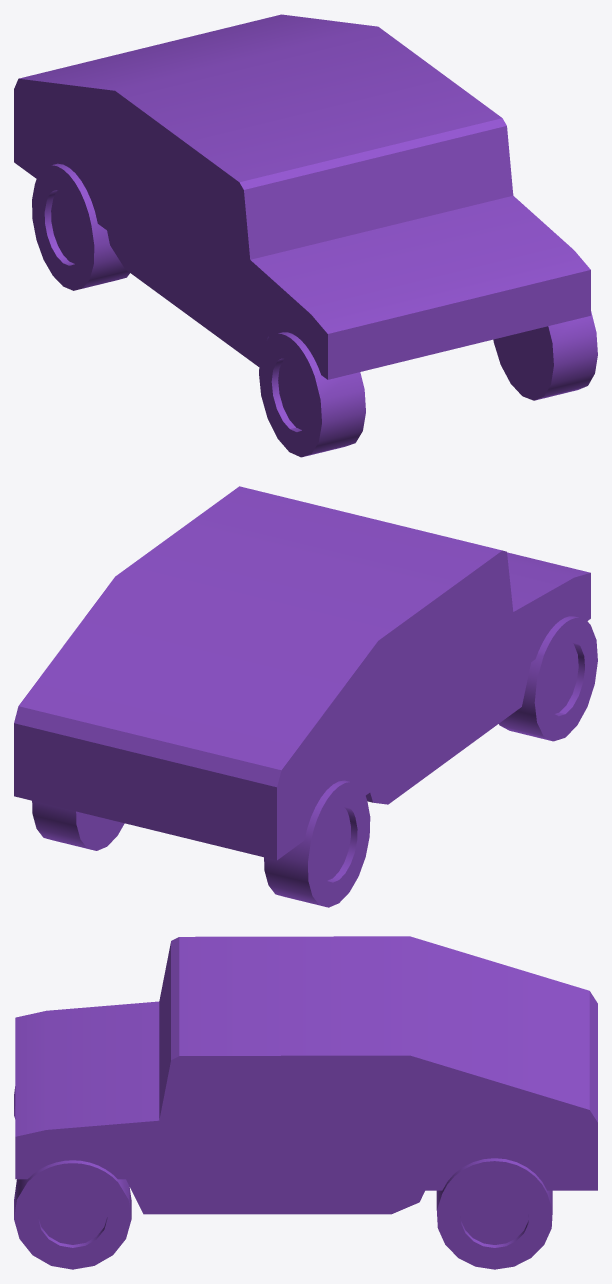
File: Boardgame_Piece_Military_Modern_Humvee_Purple_01.fbx
The picture shows the model from 3 angles, top to bottom: view 1: azimuth 30°, elevation 25°; view 2: azimuth 150°, elevation 25°; view 3: azimuth 270°, elevation 25°; orthographic projection. The views are drawn at different scales.
Parts seen in each view (by area): view 1: Boardgame_Piece_Military_Modern_Humvee_Purple_01; view 2: Boardgame_Piece_Military_Modern_Humvee_Purple_01; view 3: Boardgame_Piece_Military_Modern_Humvee_Purple_01.
Part boxes in pixels (<box>): Boardgame_Piece_Military_Modern_Humvee_Purple_01: <box>14,14,597,457</box>; Boardgame_Piece_Military_Modern_Humvee_Purple_01: <box>14,486,597,907</box>; Boardgame_Piece_Military_Modern_Humvee_Purple_01: <box>14,936,597,1269</box>.
Size of the model in its own units: 27.44 by 21.63 by 54.17.
